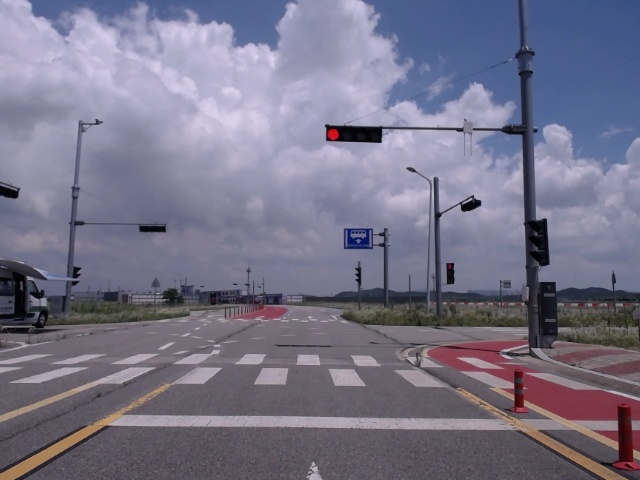red_4: (325, 125, 382, 143)
